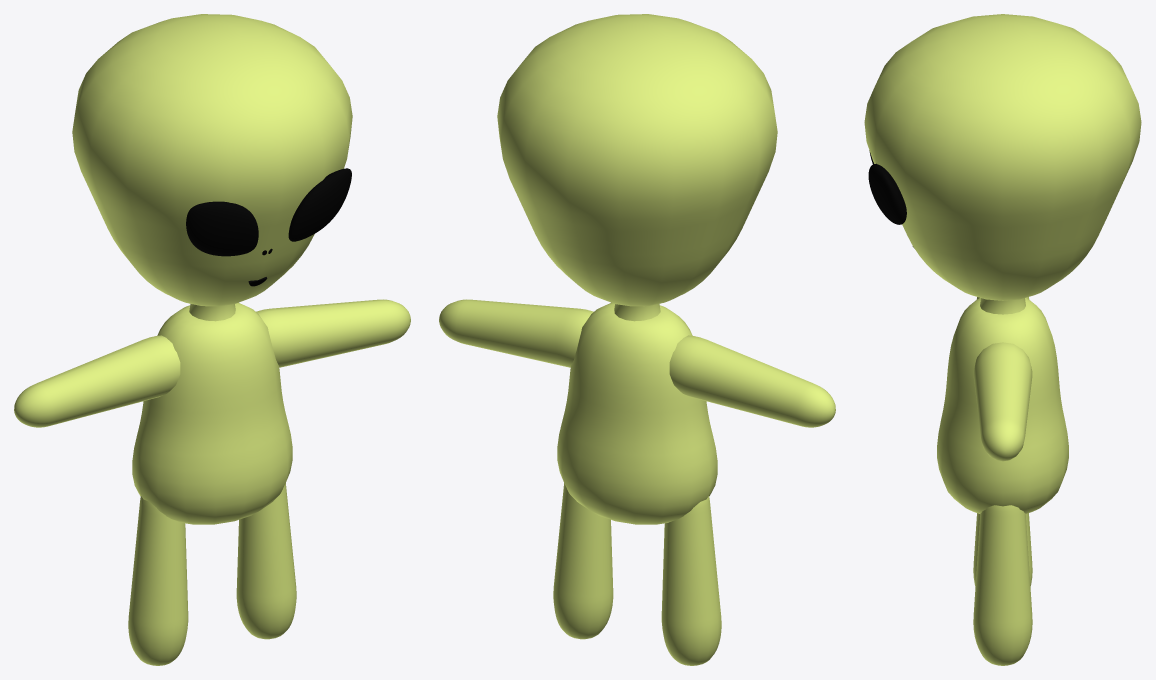
Rendered from alien.gltf.
The picture shows the model from 3 angles, left to right: view 1: azimuth 30°, elevation 25°; view 2: azimuth 150°, elevation 25°; view 3: azimuth 270°, elevation 25°; orthographic projection. The views are drawn at different scales.
Visible parts, largest first — view 1: Extrude-Mat, Extrude-Mat.2; view 2: Extrude-Mat; view 3: Extrude-Mat, Extrude-Mat.2.
Part boxes in pixels (x1,y1,x2,y2): Extrude-Mat: [14, 14, 410, 665]; Extrude-Mat.2: [186, 168, 351, 286]; Extrude-Mat: [439, 14, 835, 665]; Extrude-Mat: [864, 14, 1141, 665]; Extrude-Mat.2: [868, 150, 913, 247].
Size of the model in its own units: 21.94 by 32.82 by 13.68.
